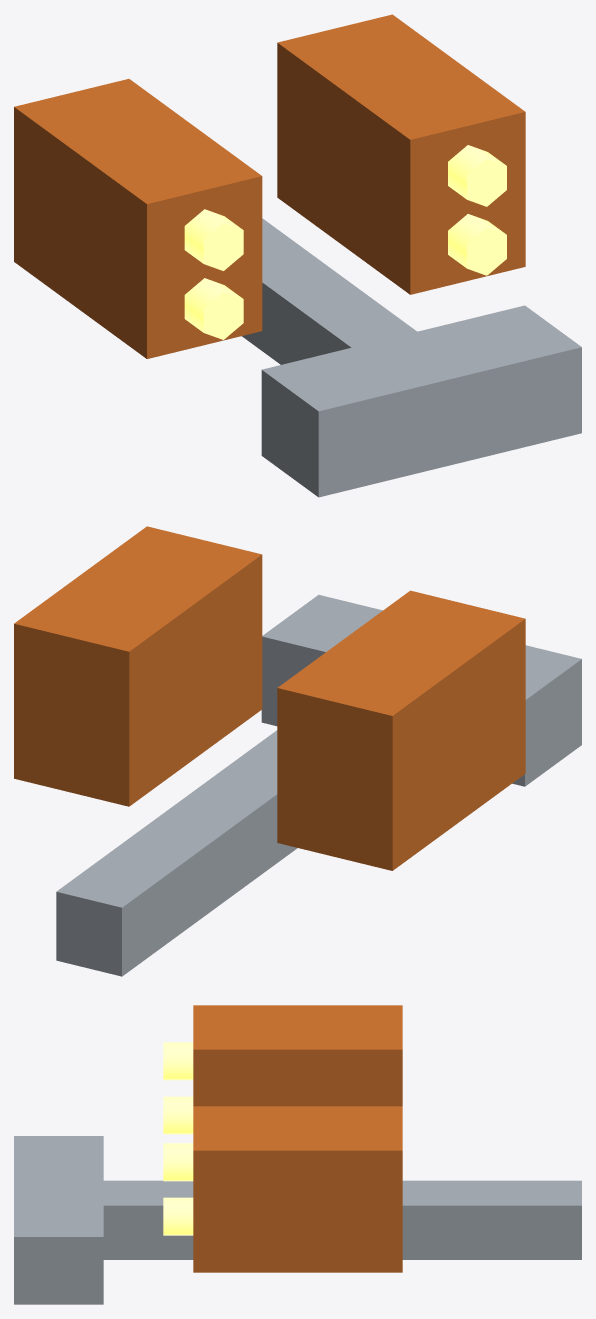
Rendered from fw_ren1.glb.
The picture shows the model from 3 angles, top to bottom: view 1: azimuth 30°, elevation 25°; view 2: azimuth 150°, elevation 25°; view 3: azimuth 270°, elevation 25°; orthographic projection. The views are drawn at different scales.
Visible parts, largest first — view 1: fw_ren1; view 2: fw_ren1; view 3: fw_ren1.
Part boxes in pixels (left/top/right/bottom): fw_ren1: left=14, top=14, right=581, bottom=497; fw_ren1: left=14, top=526, right=581, bottom=976; fw_ren1: left=14, top=1005, right=581, bottom=1304.
Bounding box in the file's own units: 0.23 × 0.13 × 0.38.
